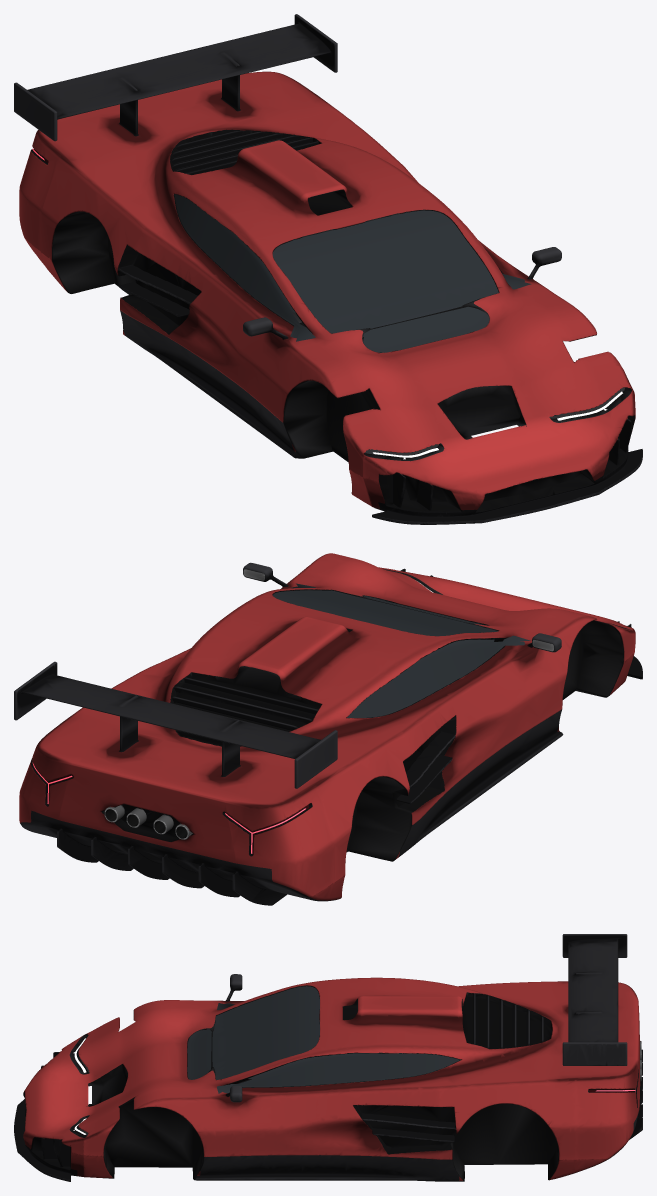
The model's file is razor.glb.
3 renders of one model, top to bottom at view 1: azimuth 30°, elevation 25°; view 2: azimuth 150°, elevation 25°; view 3: azimuth 270°, elevation 25°, orthographic. The views are drawn at different scales.
Visible parts, largest first — view 1: paint, carbon, window, trim, grille; view 2: paint, carbon, trim, window, grille, chrome; view 3: paint, carbon, trim, window, grille.
Boxes of the visible parts, box(x1,y1,x2,y2) form: paint: box(19, 71, 635, 510); carbon: box(14, 14, 642, 524); window: box(174, 194, 531, 352); trim: box(31, 129, 635, 512); grille: box(134, 136, 580, 501); paint: box(19, 553, 635, 900); carbon: box(14, 562, 642, 905); trim: box(31, 568, 631, 861); window: box(272, 583, 530, 717); grille: box(121, 677, 439, 837); chrome: box(104, 569, 553, 839); paint: box(23, 977, 640, 1180); carbon: box(14, 934, 642, 1181); trim: box(23, 985, 638, 1181); window: box(187, 986, 460, 1093); grille: box(86, 997, 551, 1147).
Size of what is drawn, in the model's own units: 2.22 by 1.21 by 4.86.
